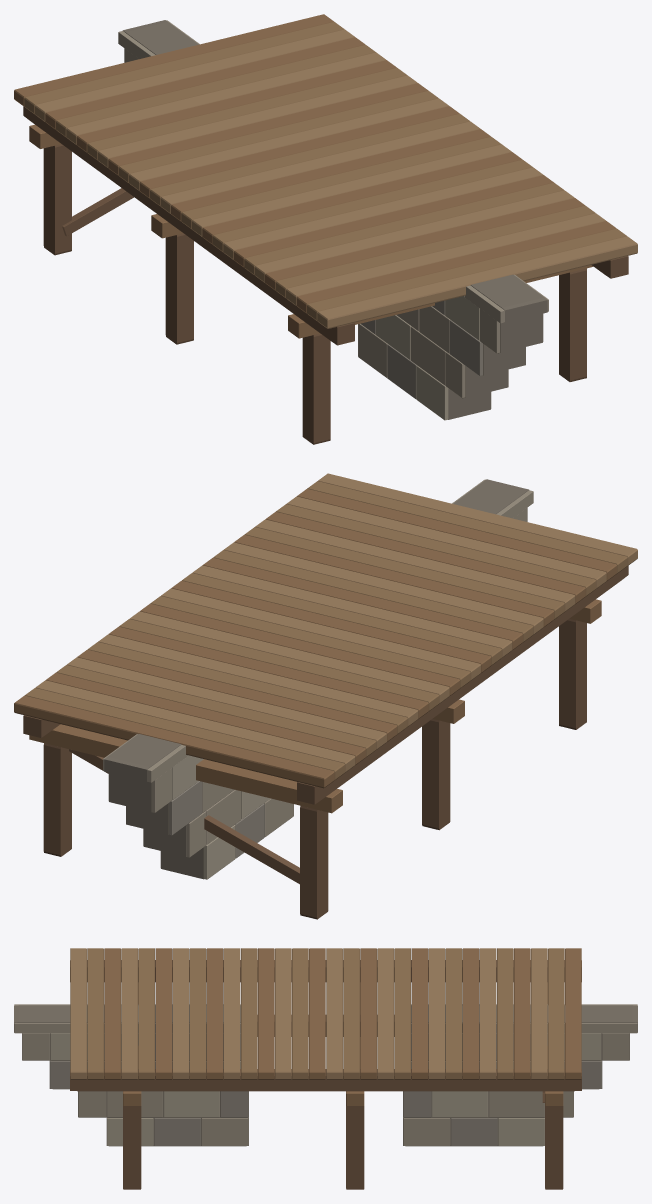
File: sections.glb
The picture shows the model from 3 angles, top to bottom: view 1: azimuth 30°, elevation 25°; view 2: azimuth 150°, elevation 25°; view 3: azimuth 270°, elevation 25°; orthographic projection. The views are drawn at different scales.
Parts seen in each view (by area): view 1: WingNorth, Deck29, Stringer0, Deck08, Deck19, Deck21, Deck06, Deck11, Deck20, Deck02, Deck09, Deck10 (+27 smaller); view 2: WingSouth, Deck00, Cap0, Stringer0, Deck21, Deck23, Deck08, Deck10, Deck11, Deck03, Deck09, Deck19 (+27 smaller); view 3: WingSouth, WingNorth, Stringer2, Deck07, Deck22, Deck05, Deck09, Deck20, Deck24, Deck06, Deck08, Deck21 (+25 smaller).
Part boxes in pixels (left/top/right/bottom): WingNorth: left=358, top=274, right=548, bottom=420; Deck29: left=317, top=236, right=637, bottom=328; Stringer0: left=23, top=106, right=354, bottom=345; Deck08: left=97, top=75, right=417, bottom=167; Deck19: left=212, top=159, right=532, bottom=251; Deck21: left=233, top=175, right=553, bottom=267; Deck06: left=76, top=60, right=396, bottom=152; Deck11: left=129, top=98, right=448, bottom=191; Deck20: left=223, top=167, right=543, bottom=259; Deck02: left=35, top=29, right=354, bottom=121; Deck09: left=108, top=83, right=428, bottom=175; Deck10: left=118, top=90, right=438, bottom=183; WingSouth: left=103, top=734, right=293, bottom=879; Deck00: left=14, top=695, right=334, bottom=788; Cap0: left=29, top=724, right=342, bottom=813; Stringer0: left=297, top=566, right=628, bottom=804; Deck21: left=234, top=534, right=554, bottom=627; Deck23: left=255, top=519, right=575, bottom=612; Deck08: left=98, top=634, right=418, bottom=726; Deck10: left=119, top=619, right=439, bottom=711; Deck11: left=129, top=611, right=449, bottom=703; Deck03: left=46, top=672, right=365, bottom=765; Deck09: left=109, top=626, right=428, bottom=719; Deck19: left=213, top=550, right=533, bottom=642; WingSouth: left=403, top=1004, right=637, bottom=1146; WingNorth: left=14, top=1004, right=248, bottom=1146; Stringer2: left=70, top=1069, right=581, bottom=1091; Deck07: left=445, top=948, right=462, bottom=1079; Deck22: left=189, top=948, right=206, bottom=1079; Deck05: left=479, top=948, right=496, bottom=1079; Deck09: left=411, top=948, right=428, bottom=1079; Deck20: left=223, top=948, right=240, bottom=1079; Deck24: left=155, top=948, right=172, bottom=1079; Deck06: left=462, top=948, right=479, bottom=1079; Deck08: left=428, top=948, right=445, bottom=1079; Deck21: left=206, top=948, right=223, bottom=1079.
Size of the model in its own units: 4 by 1.89 by 8.53.
